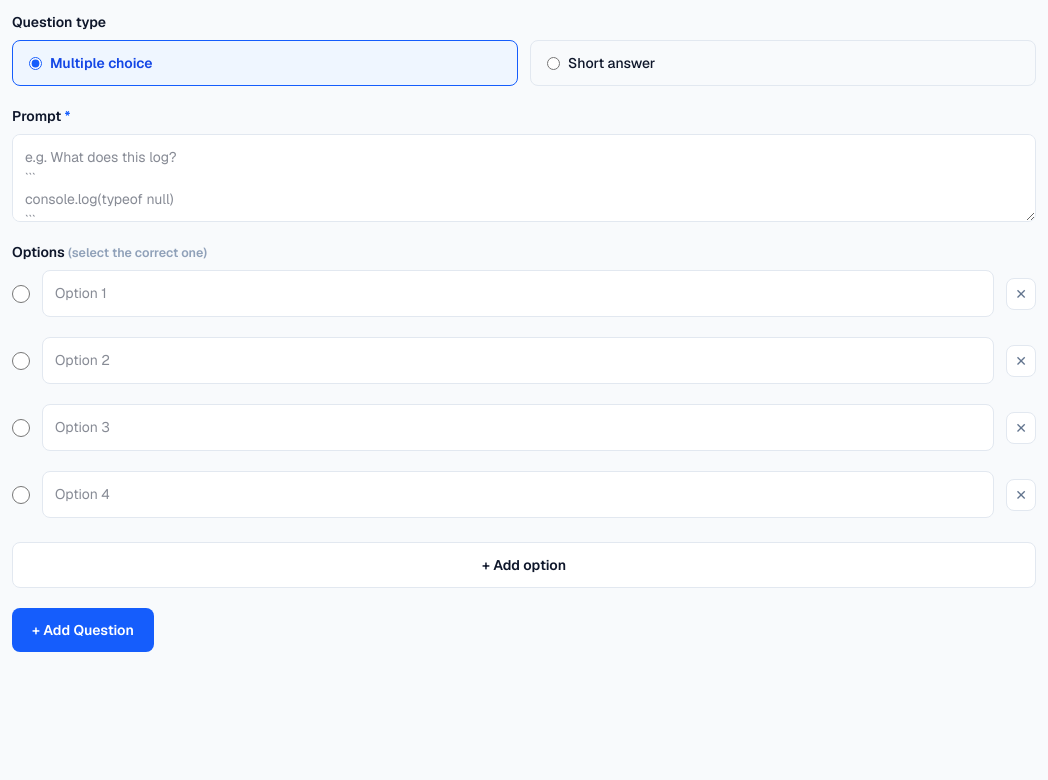
Test: QuestionForm › switching to short answer shows the accepted answer field and hides option inputs
The width and height of the screenshot is (1048, 780).
Click the radio button labelled "Short answer" at (554, 63), box [547,56,560,70]
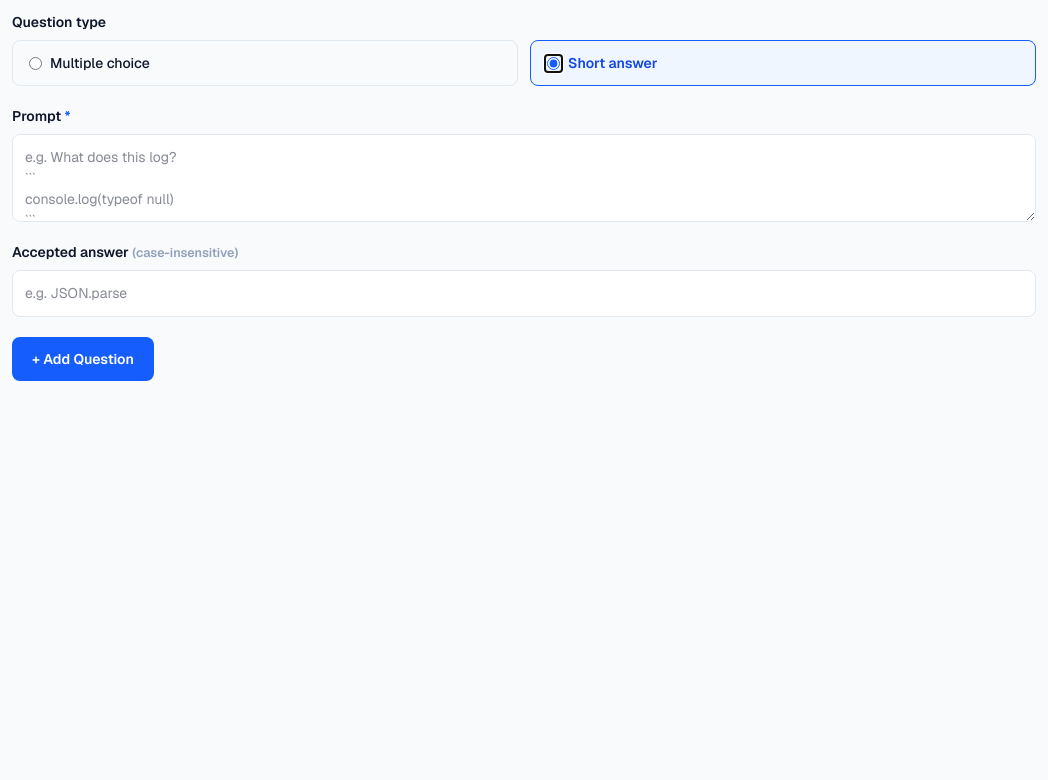
Now the field labelled "Accepted answer (case-insensitive)" is shown, box [12,270,1036,317]
